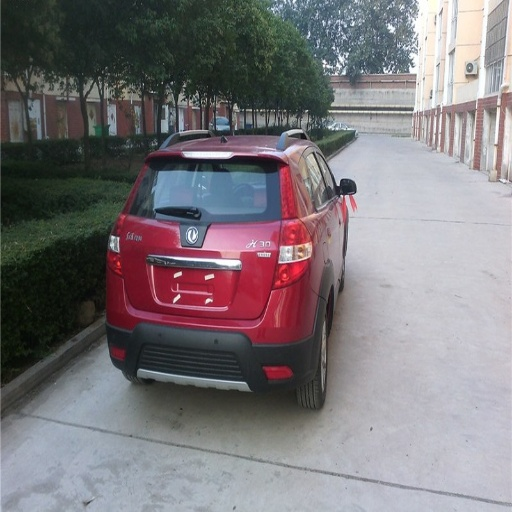back_bumper: (108, 261, 321, 381)
trunk: (124, 206, 282, 320)
